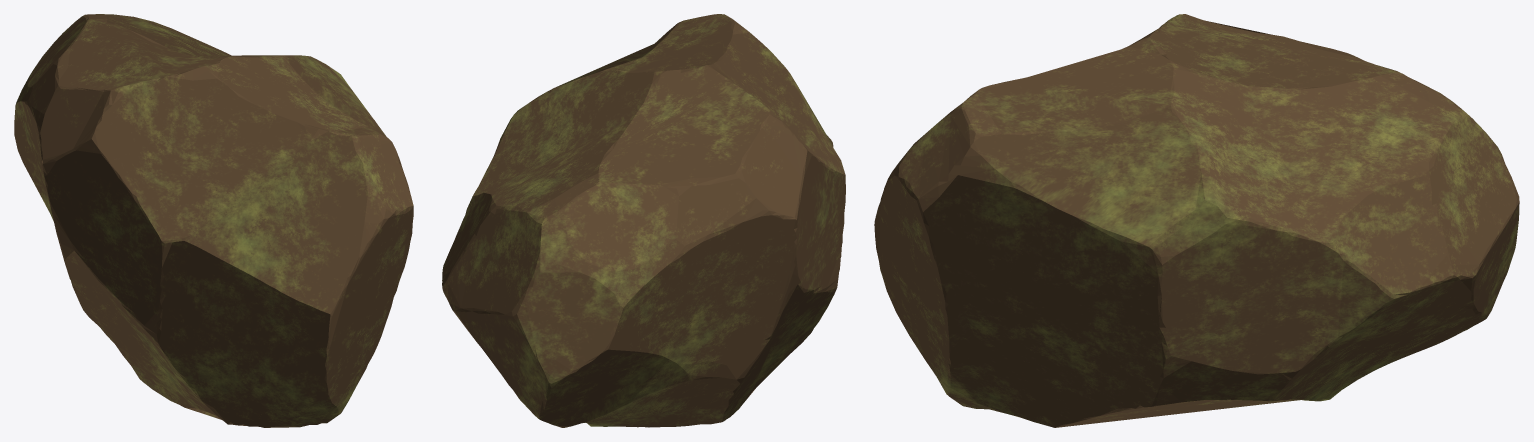
Rendered from Rock3.fbx.
3 views of the same model, side by side, from view 1: azimuth 30°, elevation 25°; view 2: azimuth 150°, elevation 25°; view 3: azimuth 270°, elevation 25° (orthographic). The views are drawn at different scales.
Parts seen in each view (by area): view 1: Rock6; view 2: Rock6; view 3: Rock6.
Part boxes in pixels (bbox=[...]): Rock6: bbox=[14, 14, 413, 427]; Rock6: bbox=[442, 14, 845, 427]; Rock6: bbox=[874, 14, 1519, 427].
Size of the model in its own units: 157 by 164 by 256.
1 material, 1 textured.
